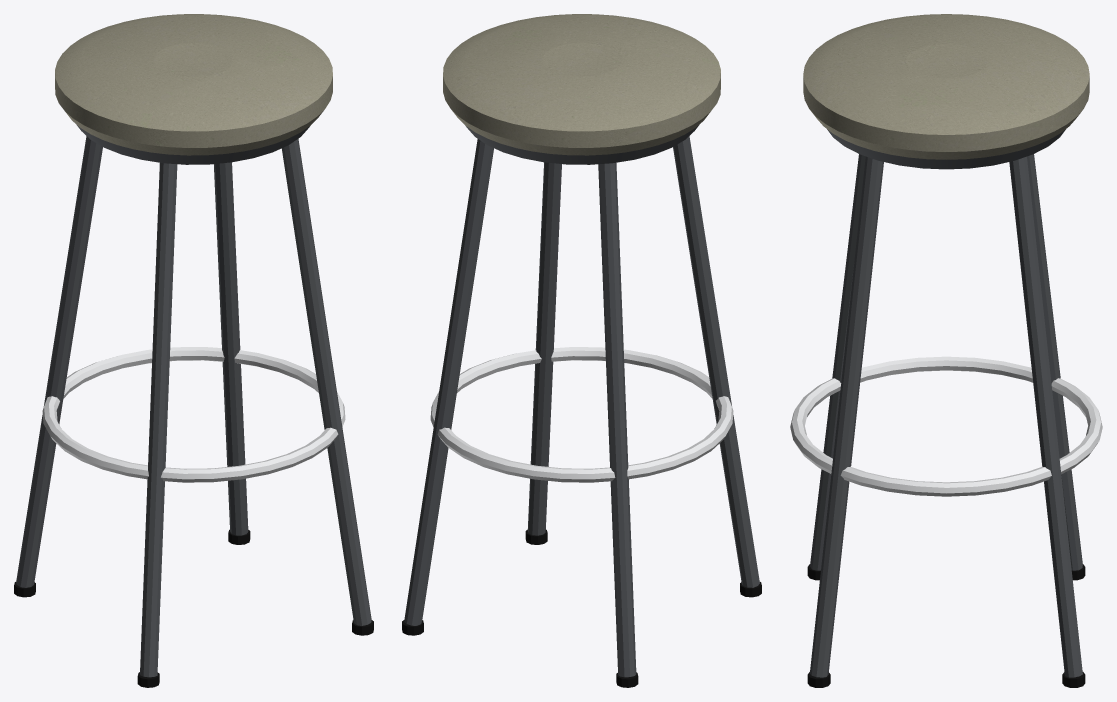
File: leather_white.glb
3 renders of one model, left to right at view 1: azimuth 30°, elevation 25°; view 2: azimuth 150°, elevation 25°; view 3: azimuth 270°, elevation 25°, orthographic. The views are drawn at different scales.
Visible parts, largest first — view 1: leather_white; view 2: leather_white; view 3: leather_white.
Boxes of the visible parts, <box> form: leather_white: <box>14,14,373,687</box>; leather_white: <box>402,14,761,687</box>; leather_white: <box>790,14,1102,687</box>.
Size of the model in its own units: 0.3818 by 0.766 by 0.3819.
4 materials, 1 textured.
